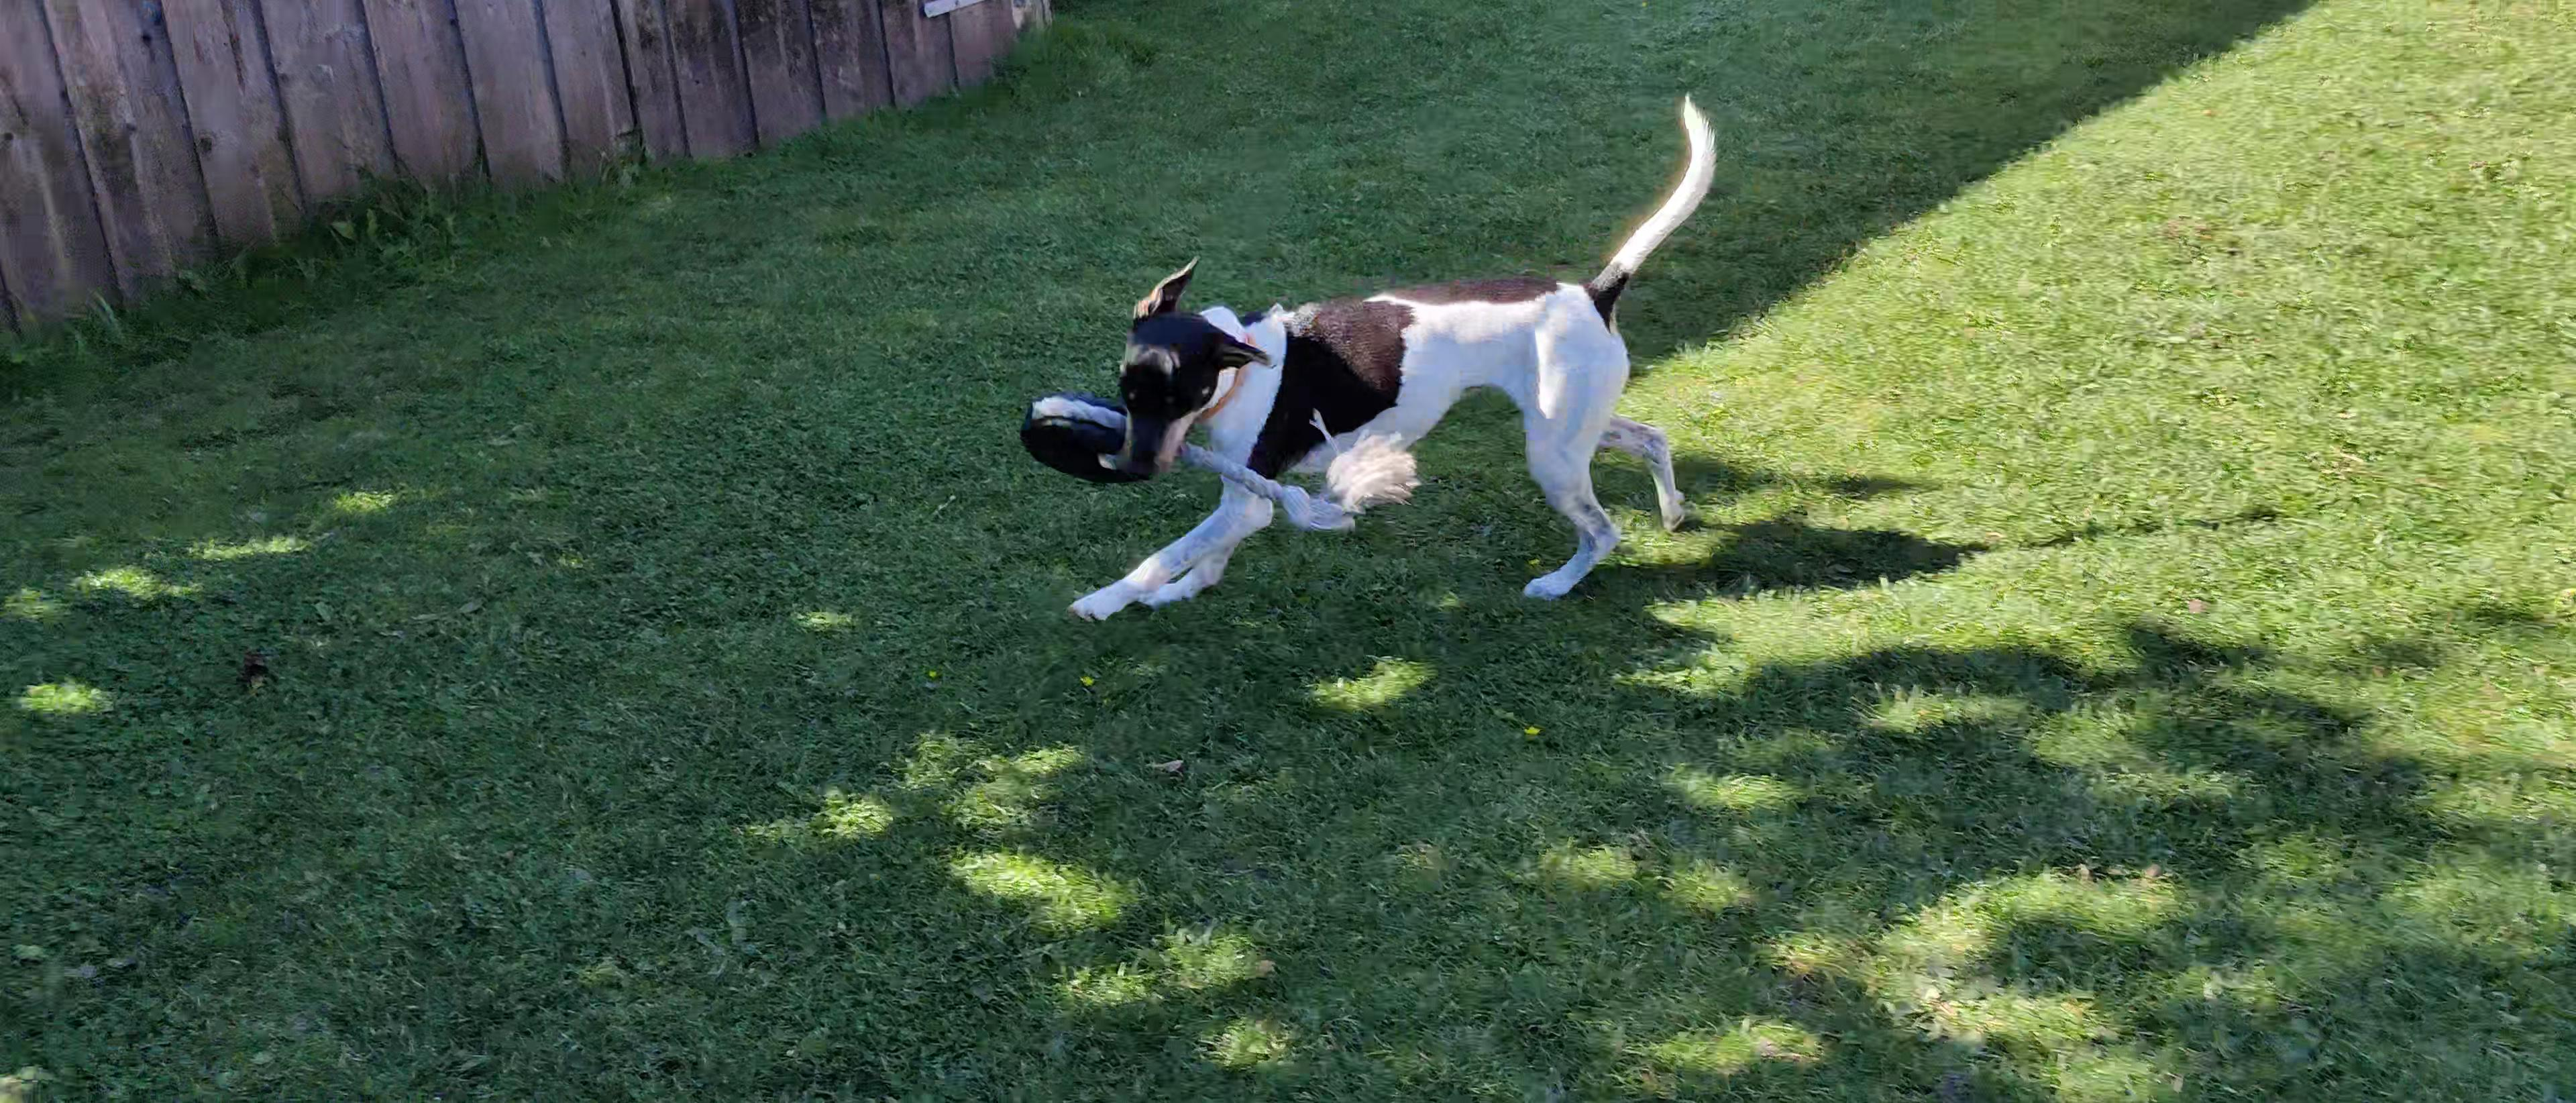Dog: (1056, 84, 1732, 631)
